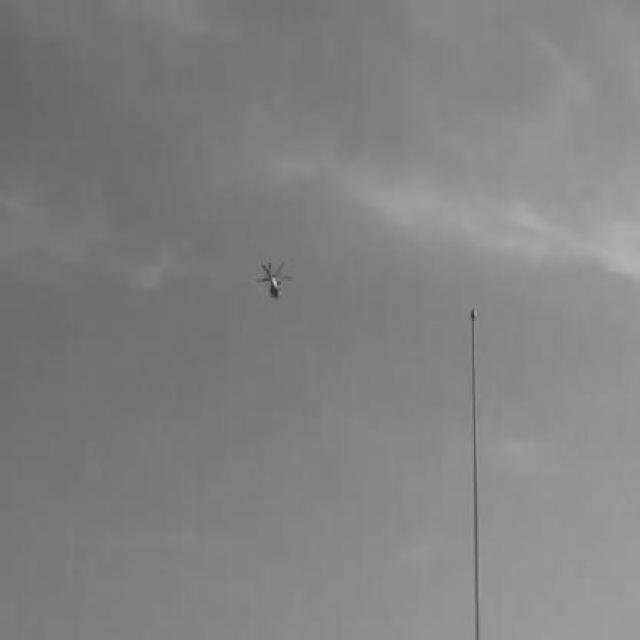helikopter: (248, 254, 294, 308)
